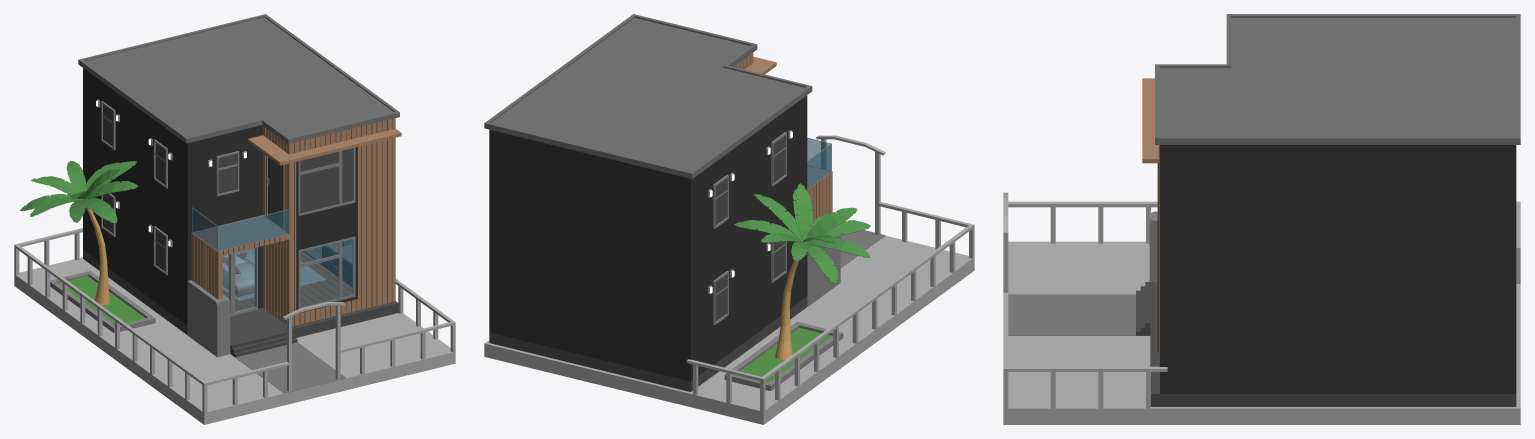
File: small_home.glb
The picture shows the model from 3 angles, left to right: view 1: azimuth 30°, elevation 25°; view 2: azimuth 150°, elevation 25°; view 3: azimuth 270°, elevation 25°; orthographic projection. The views are drawn at different scales.
Visible parts, largest first — view 1: Base, Plane.001, Wood, Plane.002, Plane.003, Door1, Floor, TV table, low_poly_interior.193, Plane.004, Plane, Door2; view 2: Base, Plane.001, Plane.002, Plane.003, Wood, Plane.004; view 3: Base, Plane.001, Plane.002, Wood.
Boxes of the visible parts, box(x1,y1,x2,y2) form: Base: box(78, 14, 399, 357); Plane.001: box(14, 257, 455, 424); Wood: box(191, 118, 401, 326); Plane.002: box(14, 228, 455, 412); Plane.003: box(20, 160, 138, 223); Door1: box(233, 247, 257, 314); Floor: box(223, 251, 352, 310); TV table: box(303, 243, 352, 286); low_poly_interior.193: box(223, 250, 254, 296); Plane.004: box(83, 198, 109, 305); Plane: box(223, 248, 325, 300); Door2: box(223, 253, 232, 315); Base: box(484, 14, 840, 391); Plane.001: box(484, 230, 974, 424); Plane.002: box(686, 135, 974, 411); Plane.003: box(734, 183, 870, 283); Wood: box(734, 53, 832, 221); Plane.004: box(775, 242, 805, 360); Base: box(1136, 14, 1520, 406); Plane.001: box(1003, 241, 1520, 424); Plane.002: box(1003, 192, 1520, 408); Wood: box(1142, 78, 1159, 393).
Size of the model in its own units: 9.64 by 6.65 by 10.88.
Materials: 58 (3 with a texture image).
